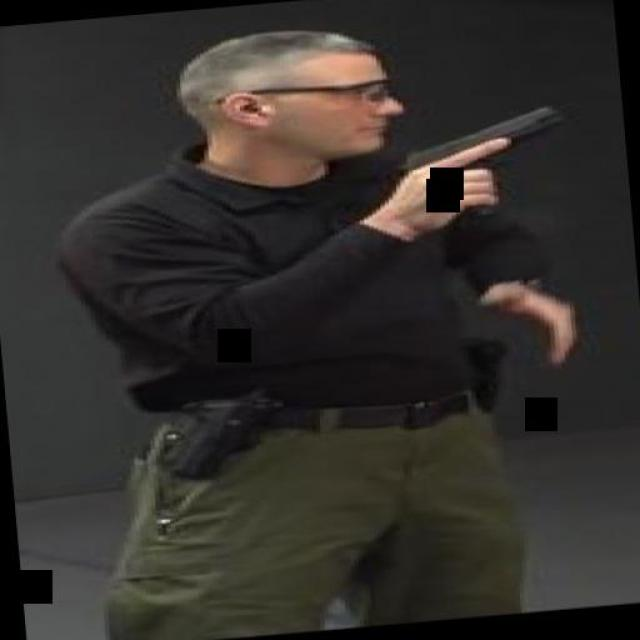gun: (391, 103, 579, 215)
